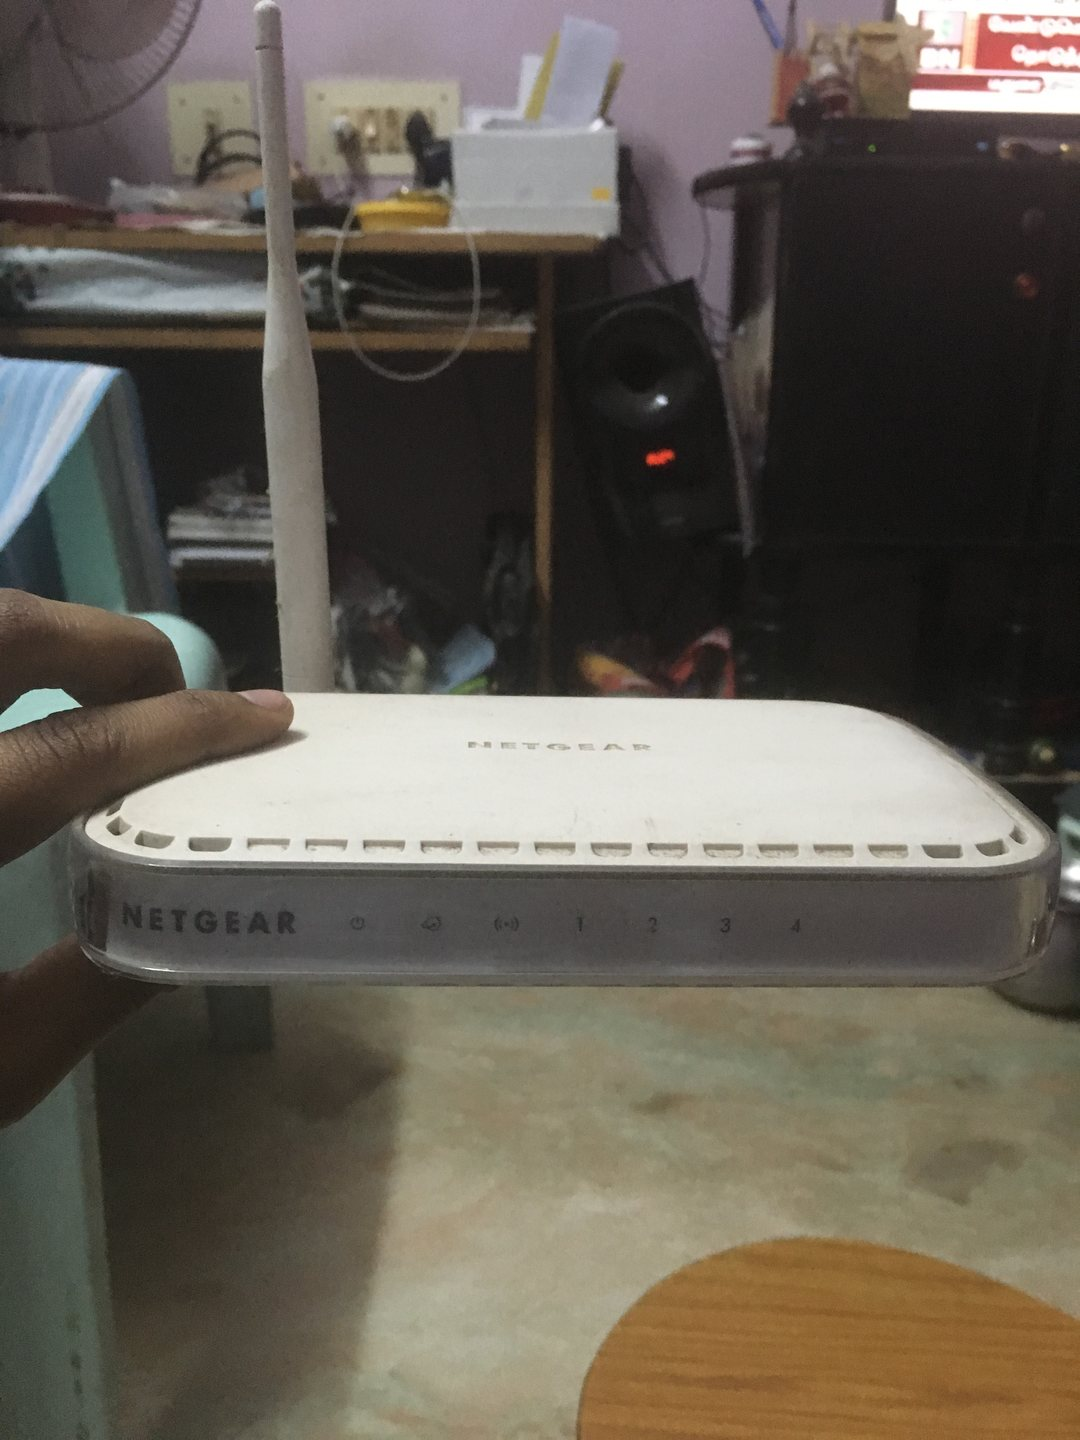NETGEAR: (107, 893, 304, 945)
modem: (66, 846, 1068, 991)
